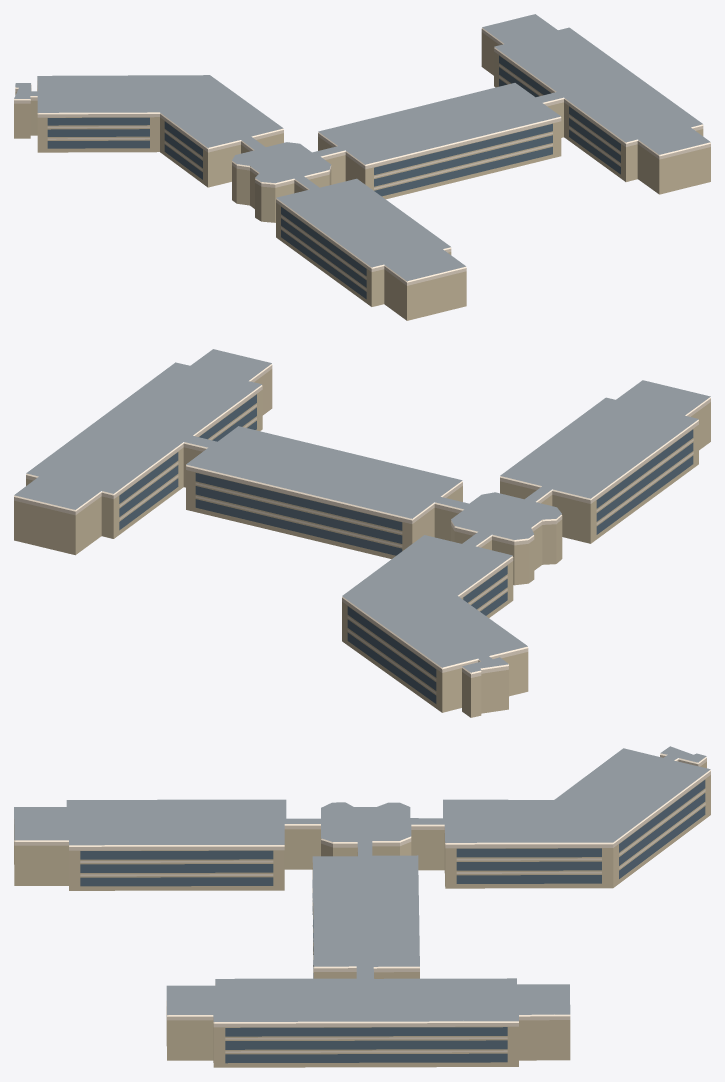
The model's file is detail.glb.
3 renders of one model, top to bottom at view 1: azimuth 30°, elevation 25°; view 2: azimuth 150°, elevation 25°; view 3: azimuth 270°, elevation 25°, orthographic. The views are drawn at different scales.
Parts seen in each view (by area): view 1: disneys-contemporary-resort-garden-wing-walt-disney-world; view 2: disneys-contemporary-resort-garden-wing-walt-disney-world; view 3: disneys-contemporary-resort-garden-wing-walt-disney-world.
Part boxes in pixels (bbox=[...]): disneys-contemporary-resort-garden-wing-walt-disney-world: bbox=[14, 14, 710, 320]; disneys-contemporary-resort-garden-wing-walt-disney-world: bbox=[14, 349, 710, 717]; disneys-contemporary-resort-garden-wing-walt-disney-world: bbox=[14, 746, 710, 1067].
Size of the model in its own units: 142 by 11 by 152.
